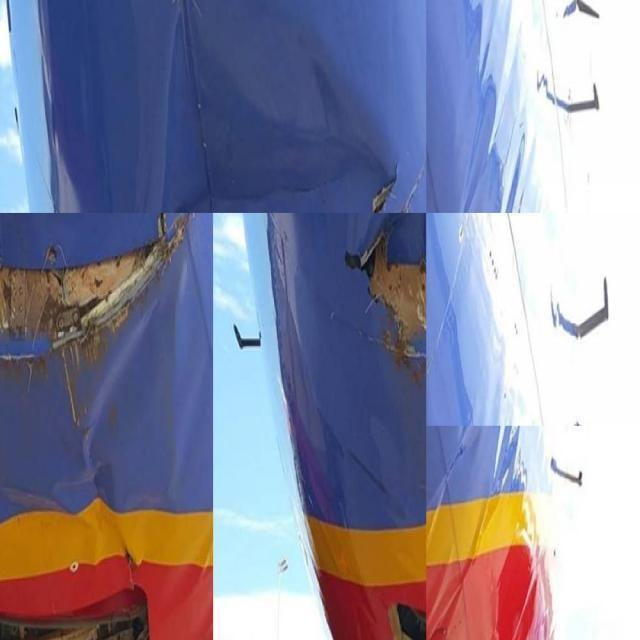crack: (363, 154, 408, 221)
